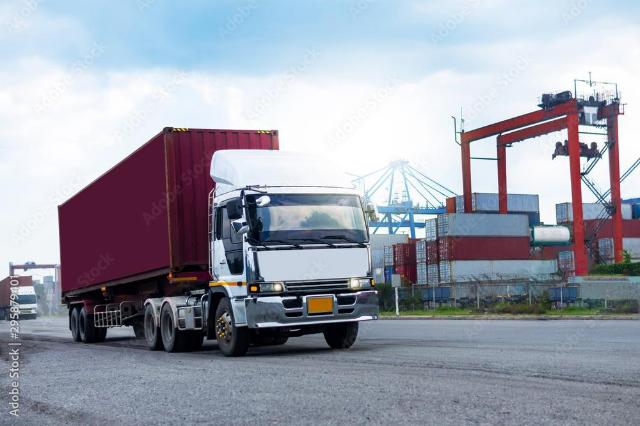truck: (59, 126, 385, 364), (0, 275, 40, 320)
